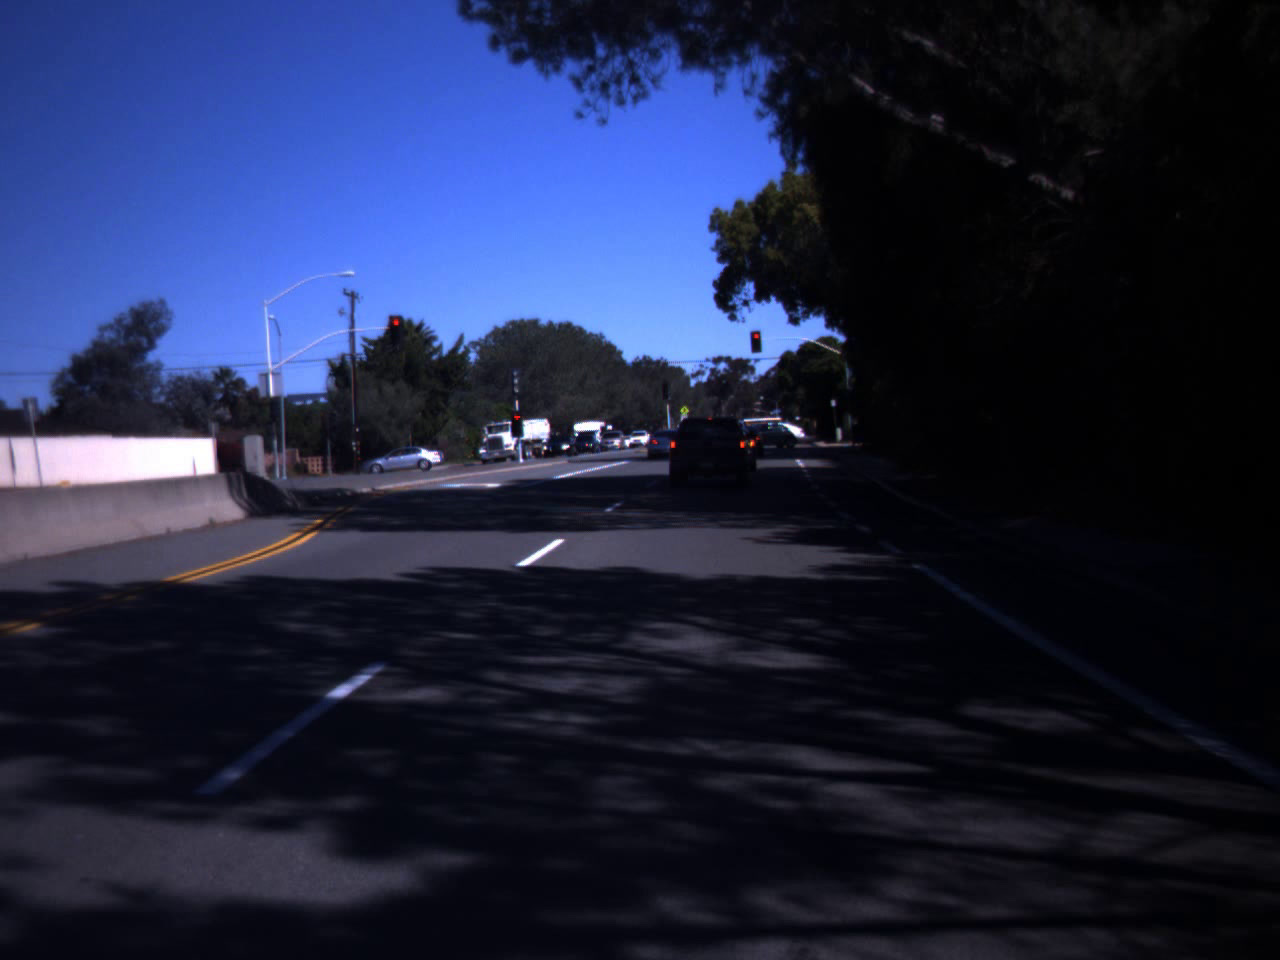stop: (508, 414, 526, 432), (390, 318, 402, 336), (750, 332, 762, 350)
